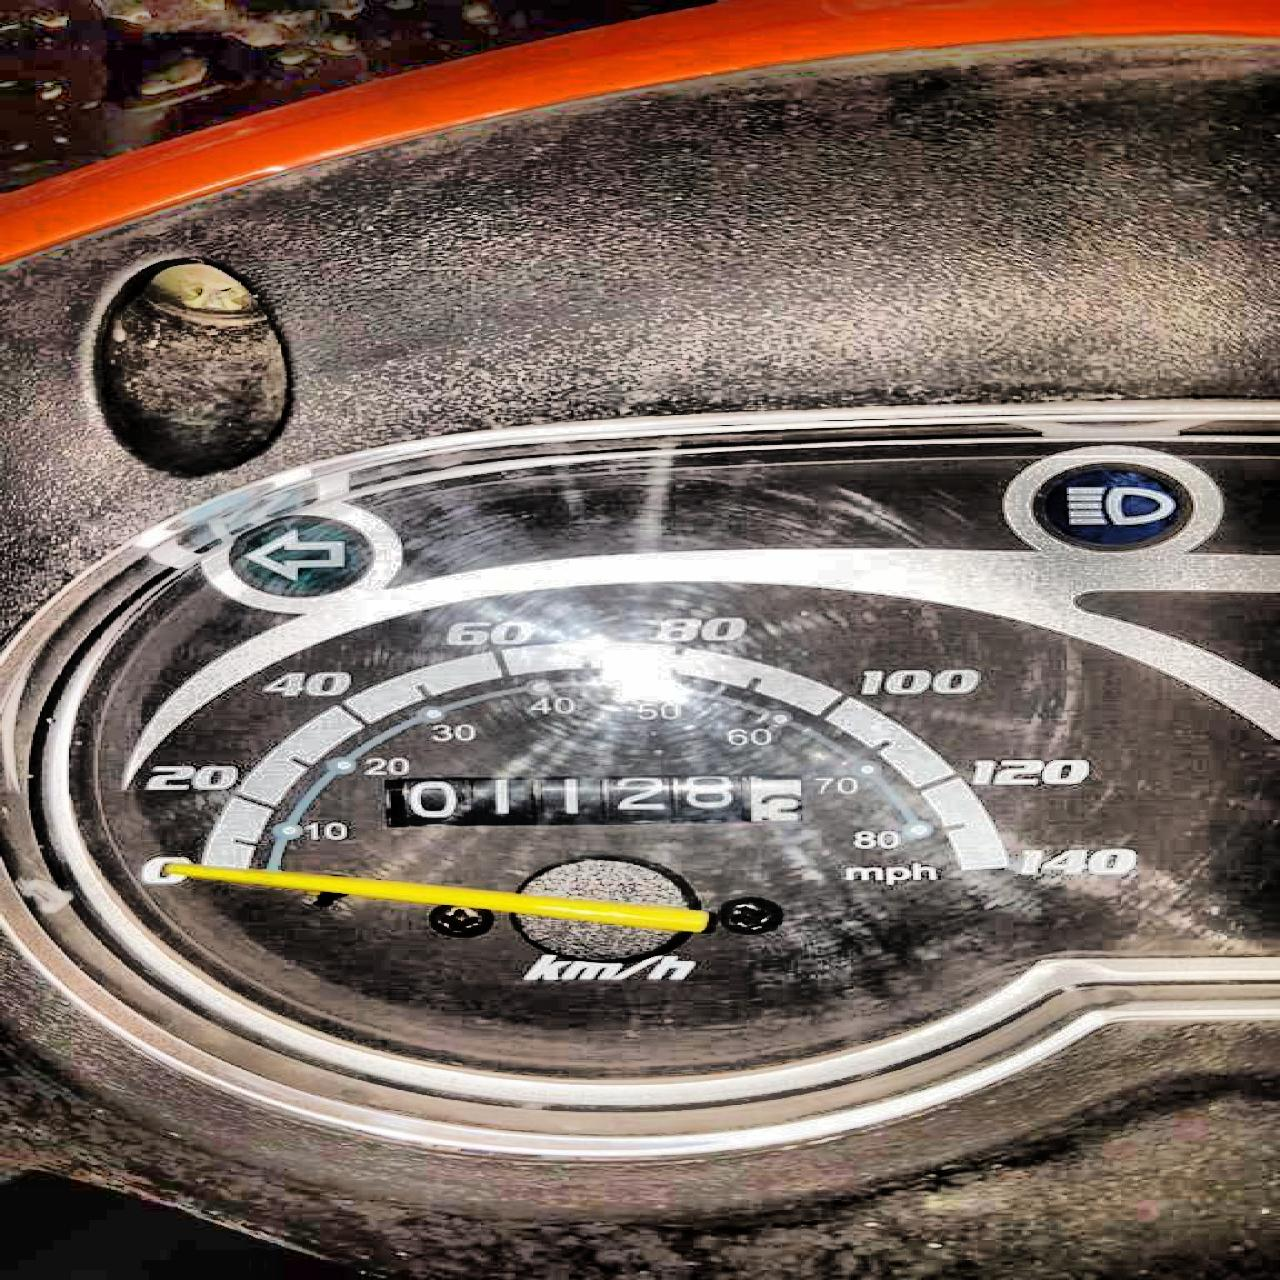0: (407, 781, 461, 818)
1: (551, 775, 583, 819), (484, 775, 513, 816)
2: (611, 774, 669, 815)
3: (751, 788, 802, 824)
8: (682, 774, 736, 808)
odometer: (380, 770, 809, 828)
